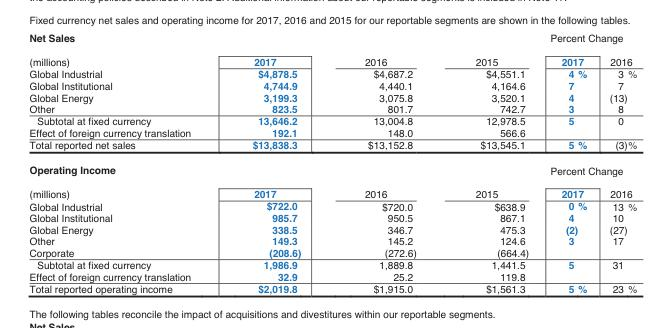table: (28, 29, 636, 297)
table column: (28, 29, 220, 297), (332, 29, 445, 297), (220, 29, 332, 297), (445, 29, 538, 297), (538, 29, 597, 297), (597, 29, 636, 297)
table column header: (28, 29, 636, 67)
table row: (28, 157, 636, 181), (28, 29, 636, 49), (28, 138, 636, 157), (28, 49, 636, 67), (28, 181, 636, 199), (28, 282, 636, 297), (28, 67, 636, 79), (28, 79, 636, 91), (28, 102, 636, 114), (28, 114, 636, 126), (28, 126, 636, 138), (28, 199, 636, 211), (28, 211, 636, 223), (28, 223, 636, 235), (28, 246, 636, 258), (28, 258, 636, 270), (28, 270, 636, 282), (28, 91, 636, 102), (28, 235, 636, 246)
table spanning cell: (28, 29, 220, 67), (332, 29, 445, 67), (220, 29, 332, 67), (445, 29, 538, 67), (538, 157, 636, 181), (538, 29, 636, 49)
